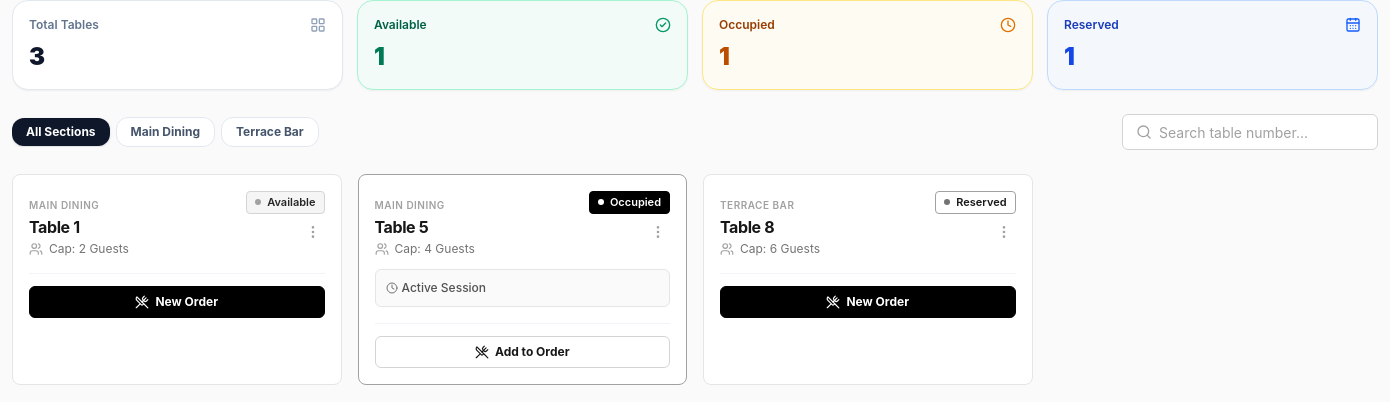
Test: TableGrid Component (Phase 6 Staff) › should filter tables when clicking section tab
Note: Click "Terrace Bar" tab
Click the button "Terrace Bar".
click(270, 132)  # box left=221, top=117, right=319, bottom=147
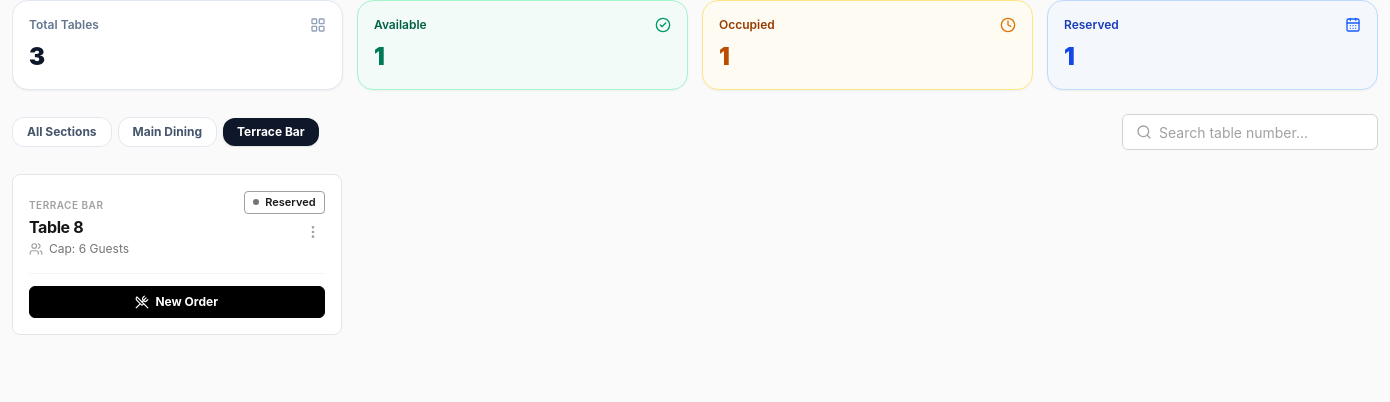
Check: the heading "Table 8" is shown, box left=29, top=217, right=83, bottom=237
Check: the heading "Table 1" is gone
Check: the heading "Table 5" is gone
